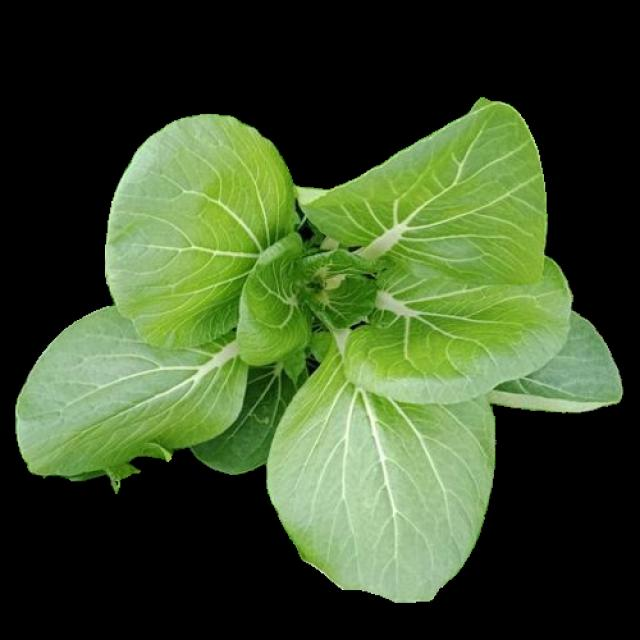healthy: (16, 98, 618, 600)
mature: (18, 100, 621, 603)
